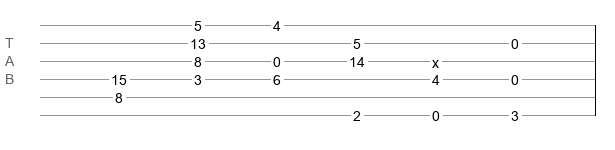0: (273, 54, 281, 64), (432, 108, 440, 118), (511, 72, 519, 82), (511, 36, 519, 46)
13: (190, 36, 206, 46)
14: (349, 54, 365, 64)
15: (111, 72, 127, 82)
2: (353, 108, 361, 118)
3: (194, 72, 202, 82), (511, 108, 519, 118)
4: (273, 18, 281, 28), (432, 72, 440, 82)
5: (194, 18, 202, 28), (353, 36, 361, 46)
6: (273, 72, 281, 82)
8: (115, 90, 123, 100), (194, 54, 202, 64)
x: (432, 55, 439, 63)
